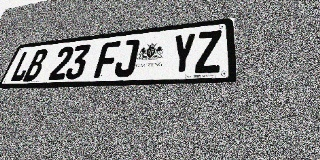2: (48, 46, 75, 80)
3: (64, 44, 91, 79)
B: (22, 49, 49, 81)
F: (93, 41, 121, 78)
J: (113, 39, 140, 77)
L: (9, 50, 36, 82)
Y: (169, 33, 196, 75)
Z: (195, 30, 221, 74)
